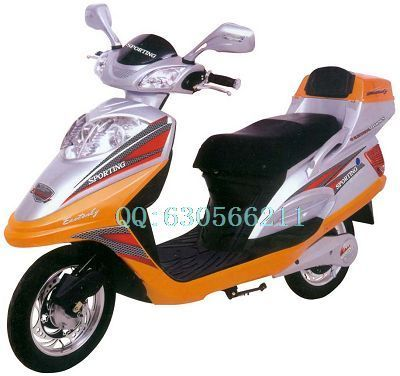电动车: (3, 2, 398, 375)
